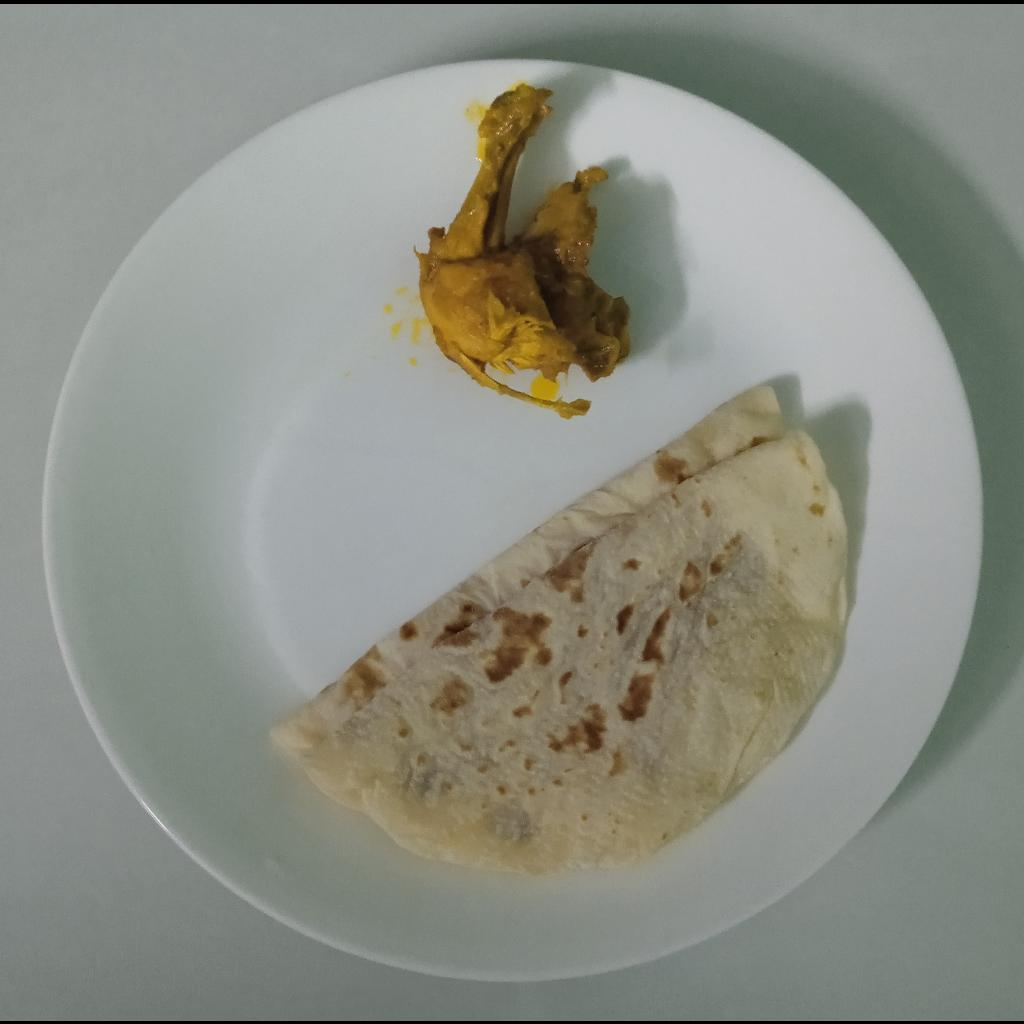chicken: (412, 80, 639, 428)
ruti: (268, 377, 850, 877)
